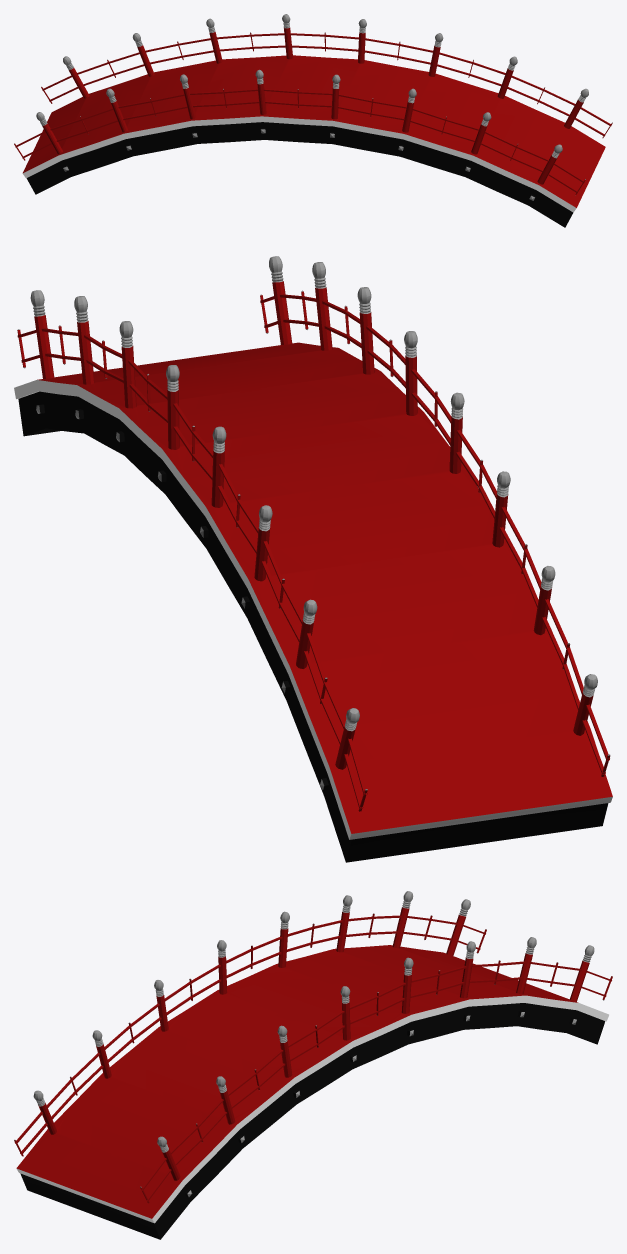
The model's file is Pont.FBX.
3 views of the same model, one above another, from view 1: azimuth 30°, elevation 25°; view 2: azimuth 150°, elevation 25°; view 3: azimuth 270°, elevation 25° (orthographic). The views are drawn at different scales.
Visible parts, largest first — view 1: Line001; view 2: Line001; view 3: Line001.
Boxes of the visible parts, bbox=[...] form: Line001: bbox=[14, 14, 612, 227]; Line001: bbox=[14, 256, 612, 862]; Line001: bbox=[14, 891, 612, 1239].
Size of the model in its own units: 379 by 113 by 351.
